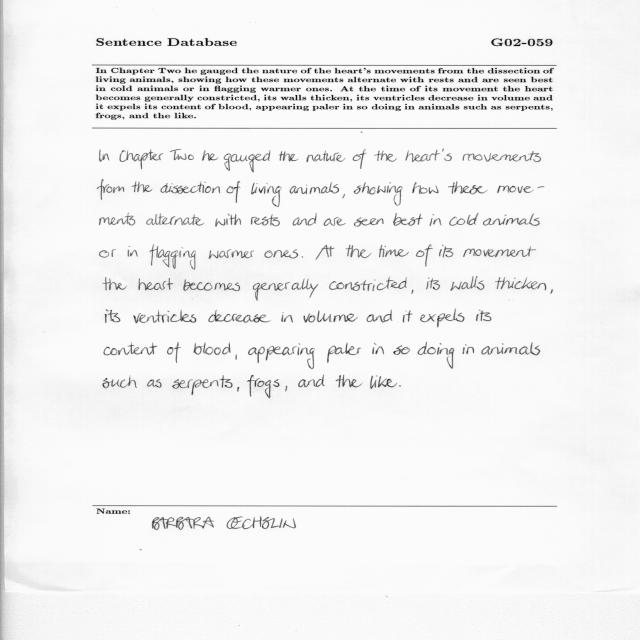word: (248, 343, 315, 369), (253, 279, 318, 301), (172, 375, 233, 395), (354, 182, 403, 206), (150, 245, 196, 270), (329, 277, 407, 291), (224, 151, 271, 173), (418, 342, 454, 369), (463, 151, 541, 162), (120, 150, 164, 169), (133, 310, 196, 323), (209, 310, 271, 323), (463, 247, 536, 258), (420, 309, 464, 327), (161, 181, 221, 194), (481, 342, 540, 355), (251, 183, 282, 207), (483, 213, 540, 226), (247, 375, 279, 398), (495, 277, 546, 291), (104, 343, 158, 356), (146, 214, 204, 226), (327, 343, 361, 363), (304, 311, 358, 323), (183, 280, 240, 291), (405, 149, 452, 162), (290, 182, 339, 194), (98, 179, 125, 200), (194, 342, 231, 355), (451, 277, 485, 291), (307, 151, 346, 163), (448, 182, 487, 194), (100, 213, 136, 226), (209, 249, 254, 259), (139, 278, 174, 290), (103, 376, 137, 388), (393, 213, 423, 226), (370, 375, 397, 389), (251, 214, 280, 227), (450, 213, 479, 226), (497, 186, 544, 194), (416, 245, 433, 267), (379, 245, 409, 257), (215, 214, 241, 227), (346, 245, 372, 258), (292, 213, 317, 226), (412, 182, 439, 194), (298, 375, 325, 387), (103, 278, 127, 291), (367, 310, 393, 322), (336, 375, 362, 387), (227, 181, 241, 203), (265, 250, 299, 259), (315, 245, 335, 260), (167, 342, 181, 363), (353, 149, 367, 169), (354, 218, 384, 227), (170, 149, 194, 160), (374, 151, 397, 162), (132, 182, 152, 193), (105, 309, 120, 323), (323, 217, 346, 226), (279, 151, 299, 161), (439, 245, 453, 258), (202, 150, 218, 161), (393, 345, 410, 355), (426, 278, 440, 290), (476, 310, 491, 321), (100, 249, 117, 258), (430, 214, 442, 226), (147, 379, 162, 388), (281, 312, 293, 323), (372, 343, 384, 354), (100, 149, 110, 162), (127, 246, 138, 257), (403, 311, 413, 323), (463, 344, 474, 354), (342, 194, 345, 199), (550, 289, 553, 294), (235, 354, 237, 360), (286, 386, 288, 392), (238, 387, 240, 392), (412, 290, 414, 294), (399, 385, 401, 387), (302, 256, 303, 258)
